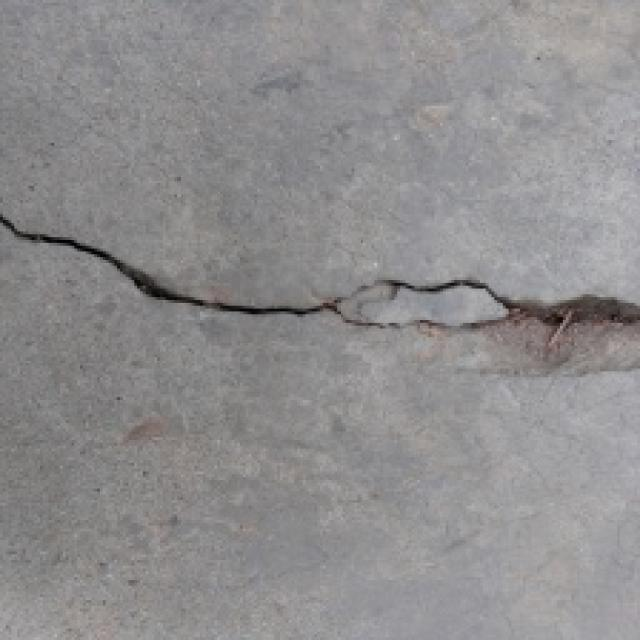crack: (4, 198, 640, 360)
